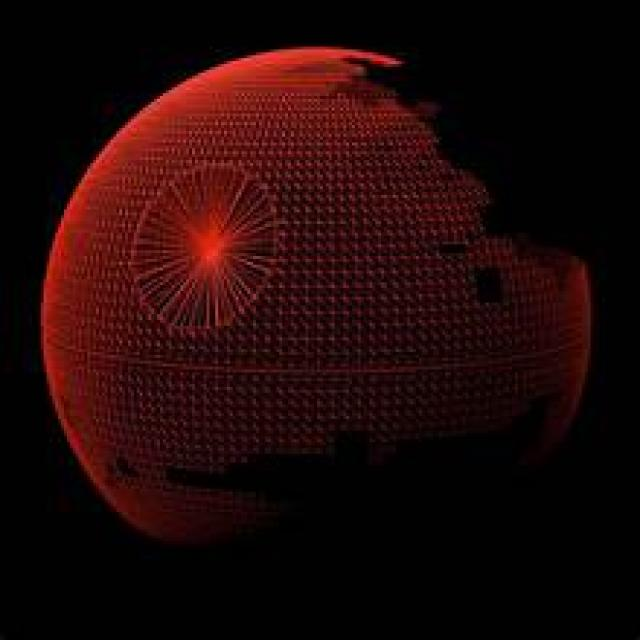deathStar: (44, 43, 596, 552)
